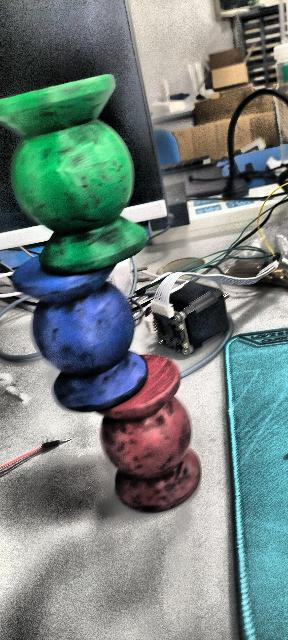blue: (6, 264, 150, 414)
green: (4, 70, 160, 272)
red: (99, 359, 204, 521)
